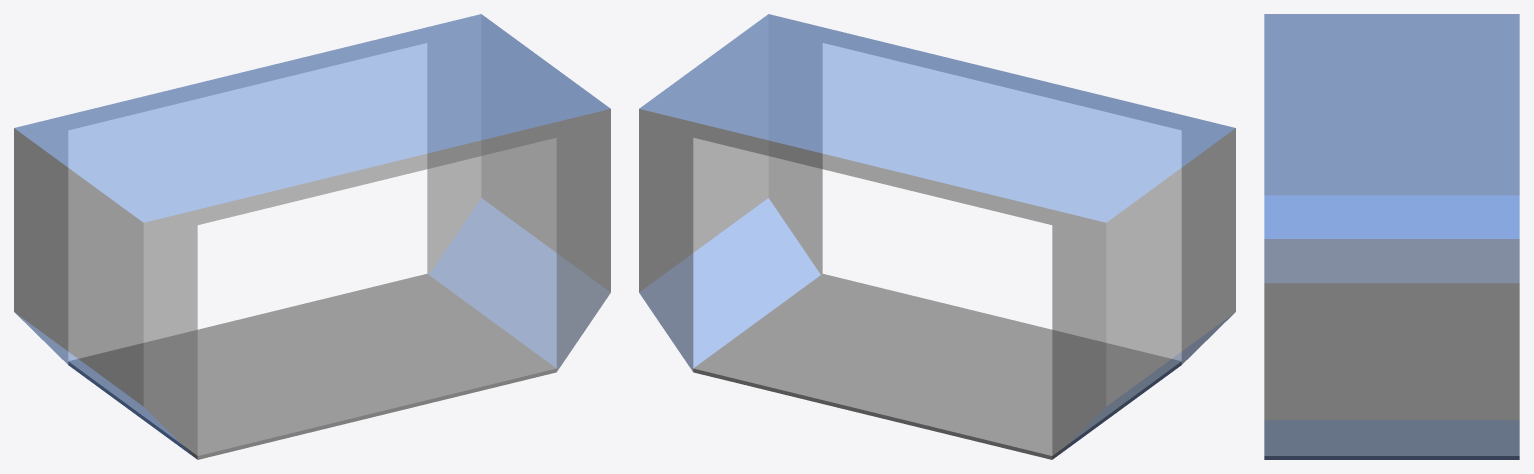
Rendered from dqf.gltf.
3 views of the same model, side by side, from view 1: azimuth 30°, elevation 25°; view 2: azimuth 150°, elevation 25°; view 3: azimuth 270°, elevation 25° (orthographic).
Visible parts, largest first — view 1: root; view 2: root; view 3: root.
Boxes of the visible parts, left/top/right/bottom form: root: left=14, top=14, right=610, bottom=459; root: left=639, top=14, right=1235, bottom=459; root: left=1264, top=14, right=1519, bottom=459.
Size of the model in its own units: 3.17 by 1.63 by 1.52.
